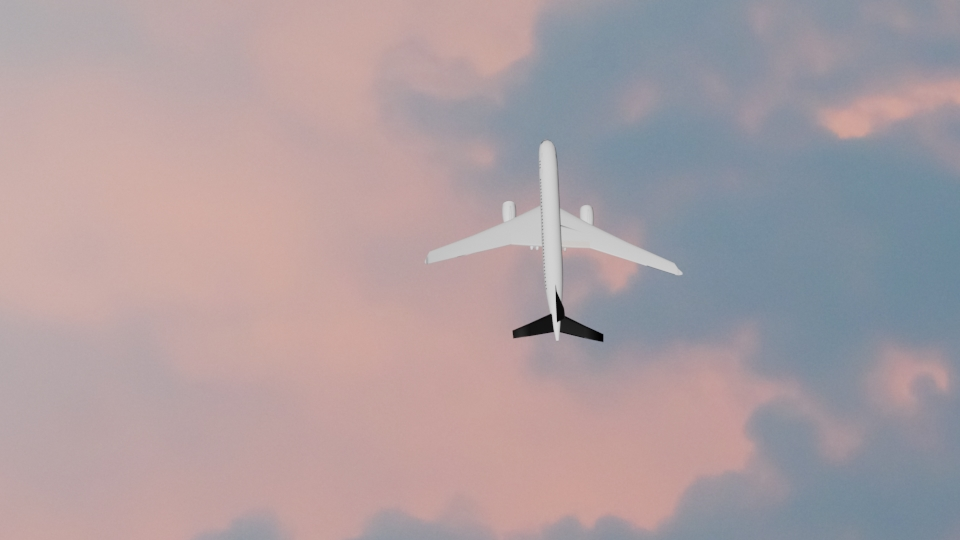plane: (422, 137, 683, 344)
